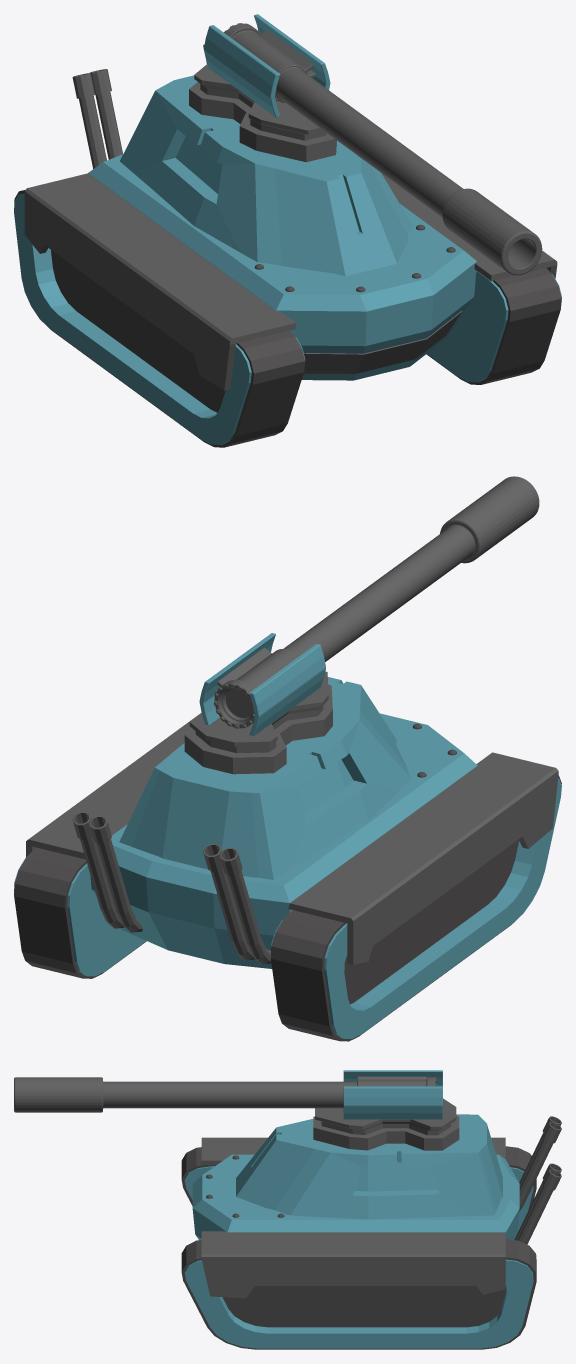
File: SmallTankAnimation.fbx
3 views of the same model, one above another, from view 1: azimuth 30°, elevation 25°; view 2: azimuth 150°, elevation 25°; view 3: azimuth 270°, elevation 25° (orthographic). The views are drawn at different scales.
Visible parts, largest first — view 1: Asmalltank, Asmalltank.001; view 2: Asmalltank, Asmalltank.001; view 3: Asmalltank, Asmalltank.001.
Boxes of the visible parts, box(x1,y1,x2,y2) form: Asmalltank: box(14, 44, 561, 447); Asmalltank.001: box(203, 14, 542, 275); Asmalltank: box(14, 671, 561, 1041); Asmalltank.001: box(199, 476, 539, 736); Asmalltank: box(181, 1098, 561, 1349); Asmalltank.001: box(14, 1070, 442, 1119).
Bounding box in the file's own units: 285 × 243 × 558.
